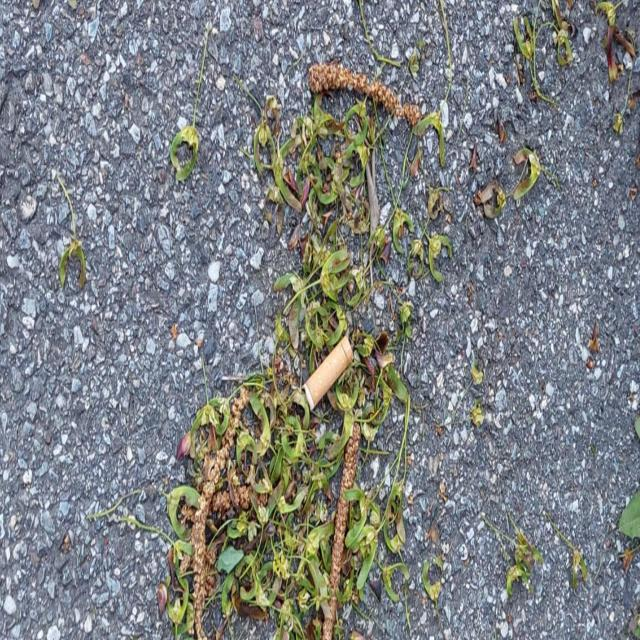other waste: (303, 335, 355, 412)
